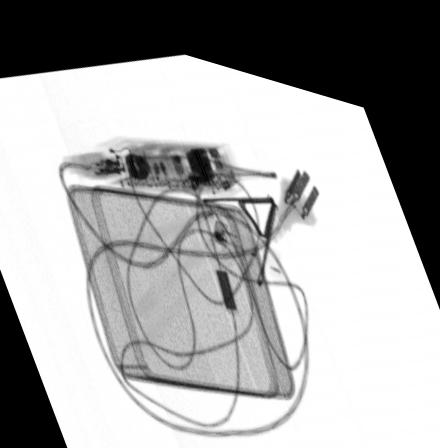Lighter: (211, 204, 283, 265)
